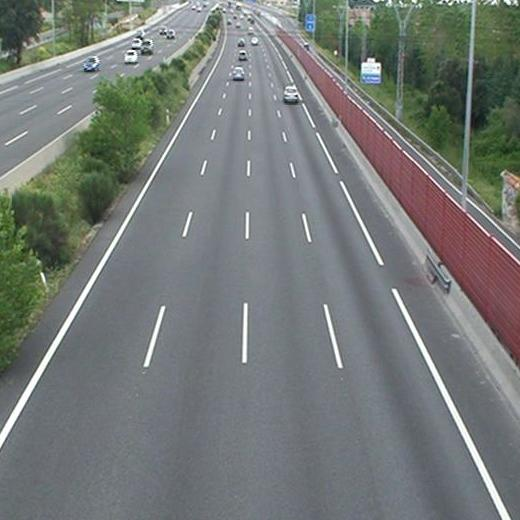car: (284, 87, 297, 101), (232, 66, 243, 79), (238, 50, 247, 61), (250, 36, 259, 45), (237, 38, 245, 47)
